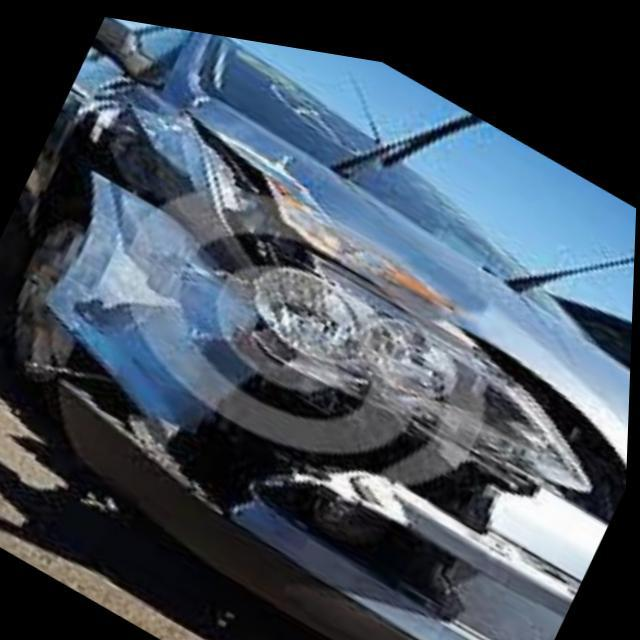dislocated part: (78, 204, 629, 519), (188, 102, 353, 247)
lamp broken: (249, 244, 597, 468)
